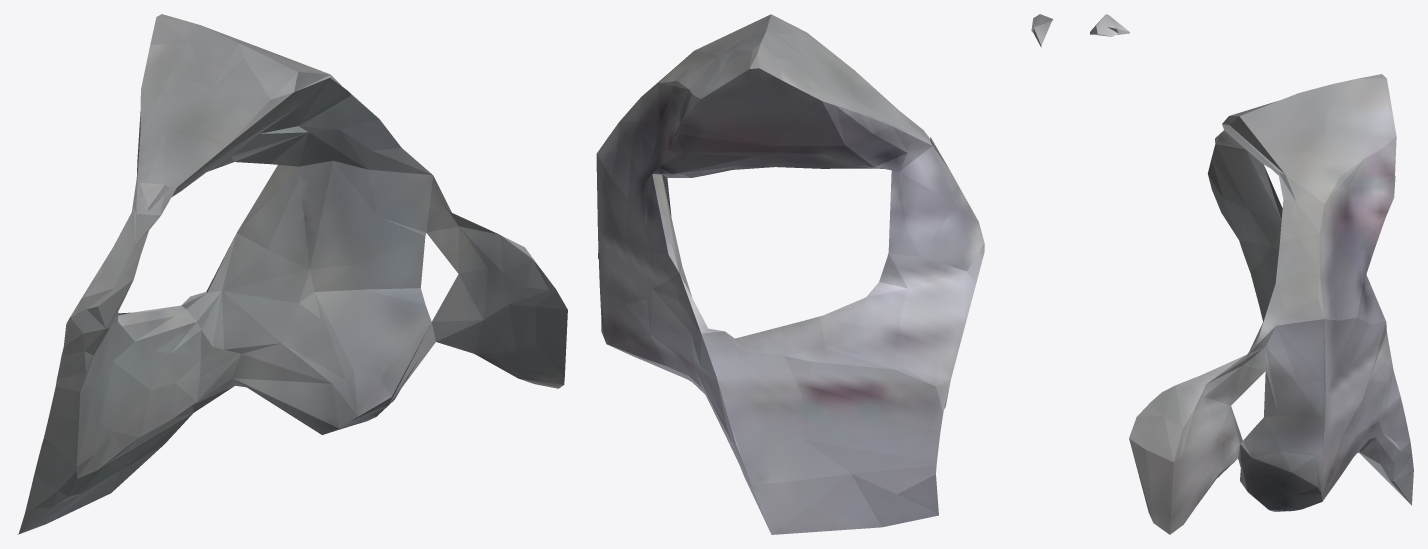
The picture shows the model from 3 angles, left to right: view 1: azimuth 30°, elevation 25°; view 2: azimuth 150°, elevation 25°; view 3: azimuth 270°, elevation 25°; orthographic projection. The views are drawn at different scales.
Bounding box in the file's own units: 0.4132 × 0.4209 × 0.2764.
1 material, 1 textured.
